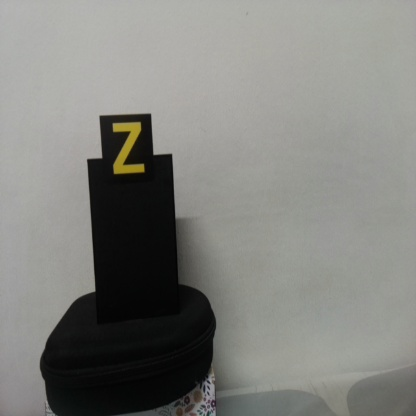id_15: (100, 116, 153, 182)
